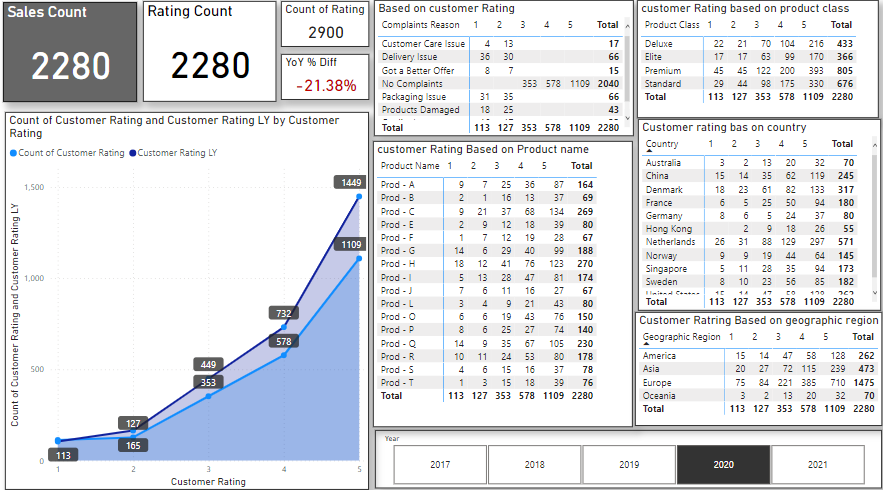

The dashboard page shown, as its layout file describes it:
{"tool":"powerbi","page":{"name":"Customer Feedback","canvas":[1280,720],"ordinal":2},"visuals":[{"type":"slicer","fields":{"Values":["Calender.Year"]},"box":[544.3,623.5,730.1,83.5],"z":0},{"type":"card","title":"Sales Count","fields":{"Values":["CountNonNull(Sales Data.Sales Id)"]},"box":[8.6,7.2,193,144],"z":1000},{"type":"card","title":"Rating Count","fields":{"Values":["CountNonNull(Sales Data.Customer Rating)"]},"box":[210.2,5.8,191.5,145.4],"z":2000},{"type":"card","title":"Count of Rating","fields":{"Values":["All Measures.Customer Rating LY"]},"box":[409,5.8,126.7,66.2],"z":3000},{"type":"card","title":"YoY % Diff","fields":{"Values":["All Measures.Customer Rating % Diff"]},"box":[409,82.1,126.7,66.2],"z":4000},{"type":"areaChart","fields":{"Category":["Sales Data.Customer Rating"],"Y":["CountNonNull(Sales Data.Customer Rating)","All Measures.Customer Rating LY"]},"box":[11.5,165.6,524.2,544.3],"z":5000},{"type":"pivotTable","title":"Based on customer Rating","fields":{"Values":["CountNonNull(Sales Data.Customer Rating)"],"Columns":["Sales Data.Customer Rating"],"Rows":["Sales Data.Complaints Reason"]},"box":[542.9,4.3,374.4,195.8],"z":6000},{"type":"pivotTable","title":"customer Rating Based on Product name","fields":{"Values":["CountNonNull(Sales Data.Customer Rating)"],"Columns":["Sales Data.Customer Rating"],"Rows":["Products Details.Product Name"]},"box":[541.4,207.4,374.4,411.8],"z":7000},{"type":"pivotTable","title":"customer Rating based on product class","fields":{"Values":["CountNonNull(Sales Data.Customer Rating)"],"Columns":["Sales Data.Customer Rating"],"Rows":["Products Details.Product Class"]},"box":[921.6,4.3,348.5,169.9],"z":8000},{"type":"pivotTable","title":"Customer rating bas on country","fields":{"Rows":["Location Details.Country"],"Columns":["Sales Data.Customer Rating"],"Values":["CountNonNull(Sales Data.Customer Rating)"]},"box":[923,175.7,349.9,276.5],"z":9000},{"type":"pivotTable","title":"Customer Ratring Based on geographic region","fields":{"Columns":["Sales Data.Customer Rating"],"Values":["CountNonNull(Sales Data.Customer Rating)"],"Rows":["Location Details.Geographic Region"]},"box":[918.7,453.6,355.7,164.2],"z":10000}]}

Visuals, with their boxes in screenshot pixels (x1, y1, x2, y2), scaled from the page's 1280x720 canvas onto the 883x490 screenshot:
slicer - Calender.Year: (x1=375, y1=424, x2=879, y2=481)
"Sales Count" card: (x1=6, y1=5, x2=139, y2=103)
"Rating Count" card: (x1=145, y1=4, x2=277, y2=103)
"Count of Rating" card: (x1=282, y1=4, x2=370, y2=49)
"YoY % Diff" card: (x1=282, y1=56, x2=370, y2=101)
areaChart - Sales Data.Customer Rating x CountNonNull(Sales Data.Customer Rating): (x1=8, y1=113, x2=370, y2=483)
"Based on customer Rating" pivotTable: (x1=375, y1=3, x2=633, y2=136)
"customer Rating Based on Product name" pivotTable: (x1=373, y1=141, x2=632, y2=421)
"customer Rating based on product class" pivotTable: (x1=636, y1=3, x2=876, y2=119)
"Customer rating bas on country" pivotTable: (x1=637, y1=120, x2=878, y2=308)
"Customer Ratring Based on geographic region" pivotTable: (x1=634, y1=309, x2=879, y2=420)
